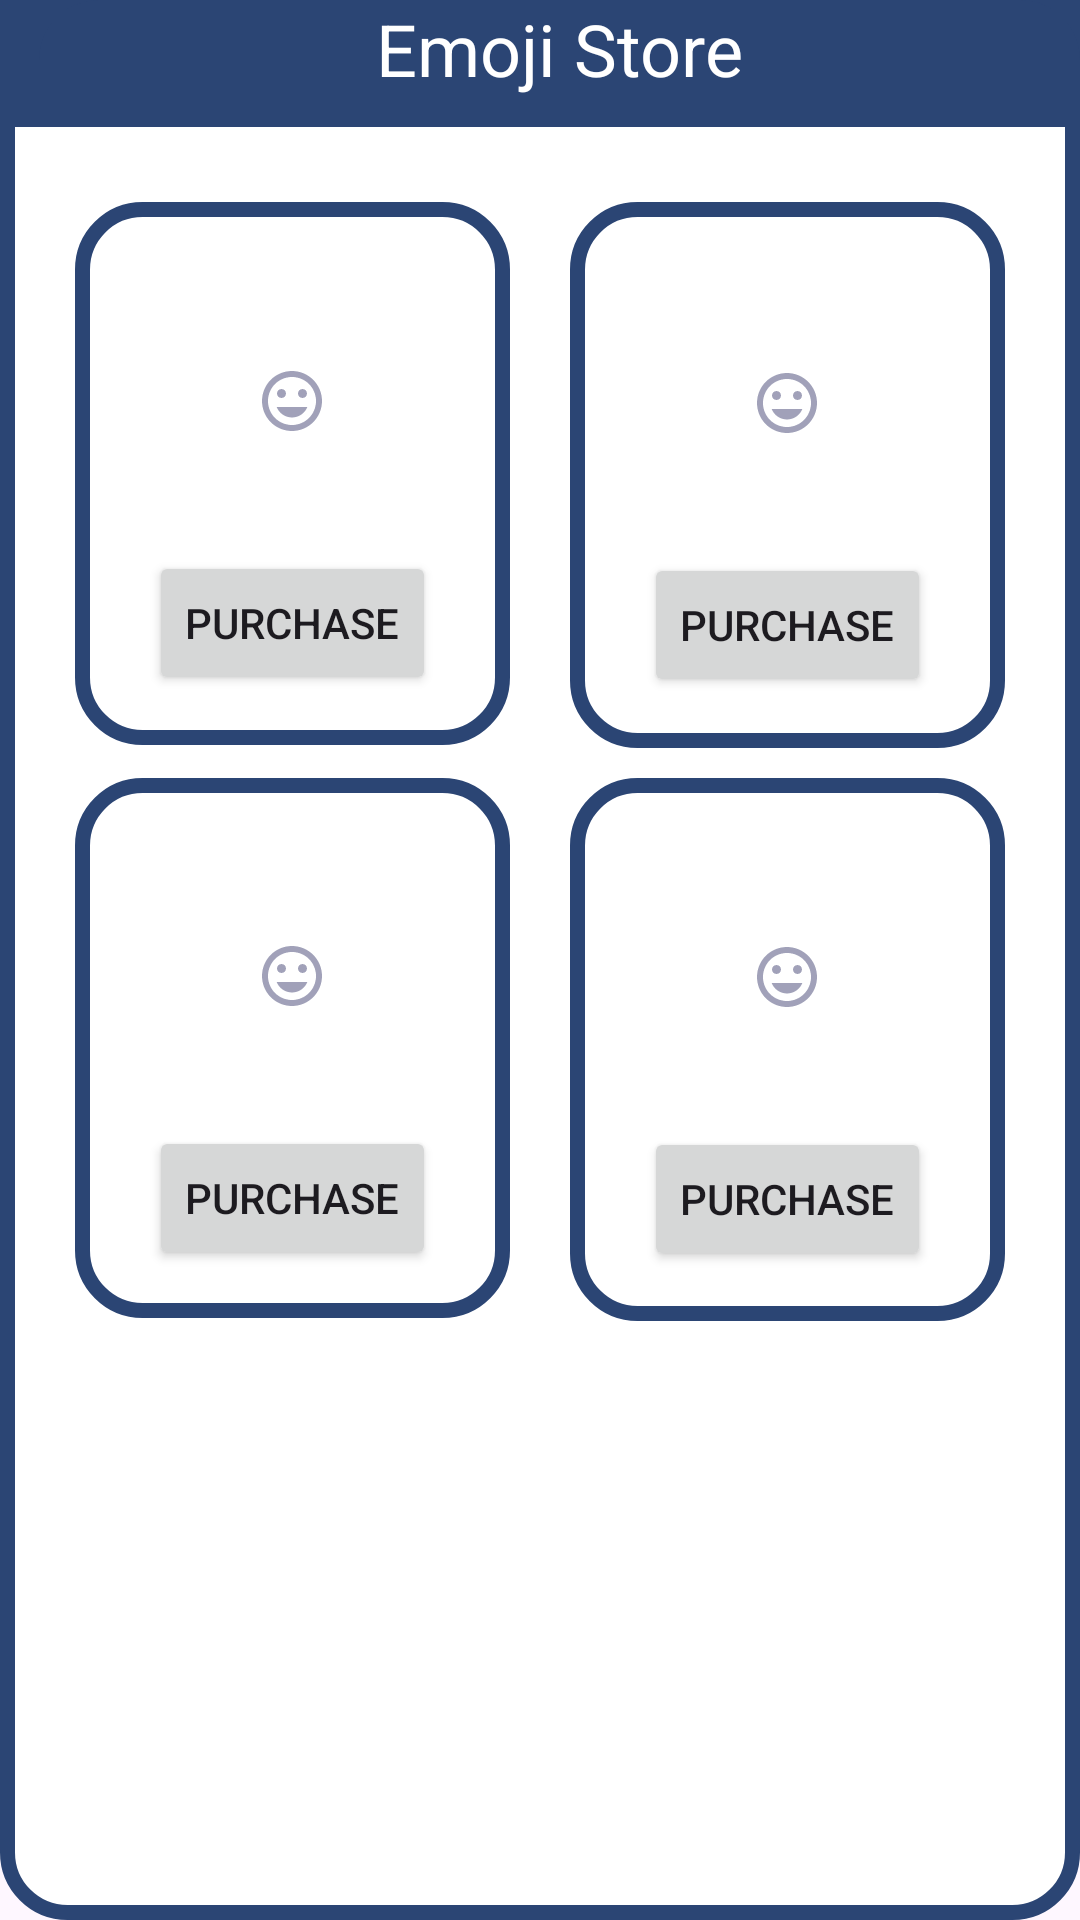

Where icons sit on this 1080px×1920px app screen, as bbox=(x1, y1, x2, y2):
emoji: bbox=(262, 371, 322, 431), bbox=(757, 373, 817, 433), bbox=(262, 946, 322, 1006), bbox=(757, 947, 817, 1007)
